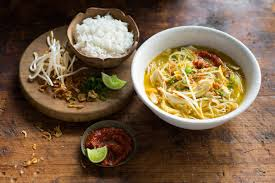soto: (3, 3, 267, 183)
